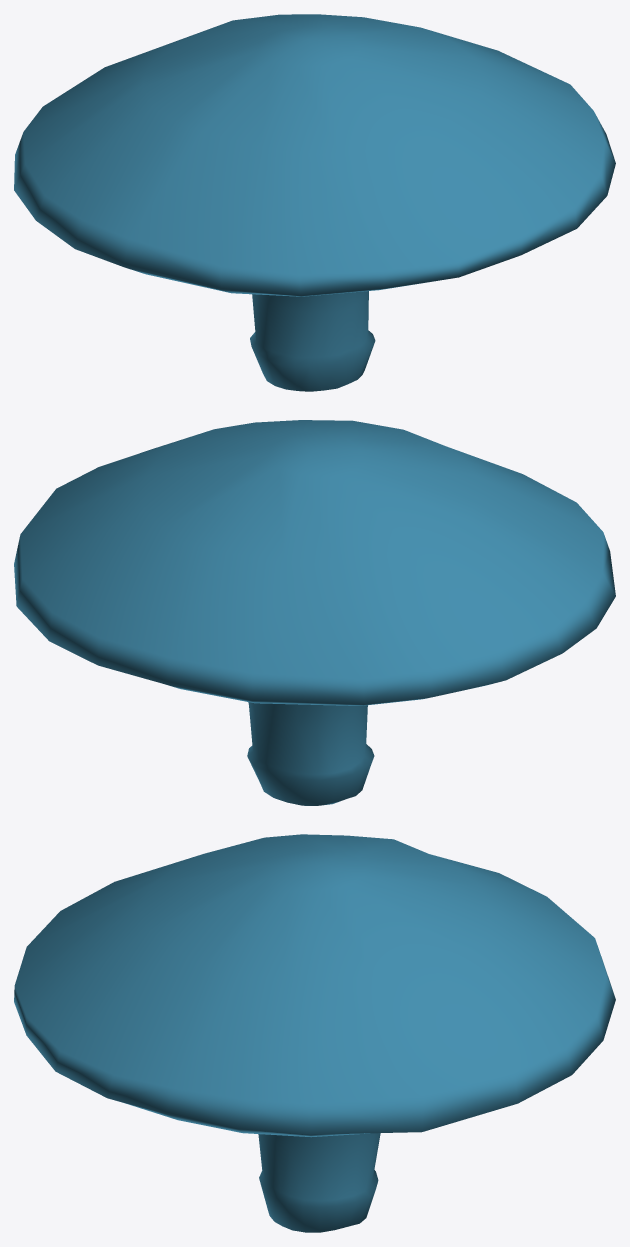
Rendered from geo_NPC02.fbx.
3 renders of one model, top to bottom at view 1: azimuth 30°, elevation 25°; view 2: azimuth 150°, elevation 25°; view 3: azimuth 270°, elevation 25°, orthographic. The views are drawn at different scales.
Parts seen in each view (by area): view 1: geo_NpcCap_02_L; view 2: geo_NpcCap_02_L; view 3: geo_NpcCap_02_L.
Boxes of the visible parts, bbox=[...] form: geo_NpcCap_02_L: bbox=[14, 14, 615, 391]; geo_NpcCap_02_L: bbox=[14, 420, 615, 805]; geo_NpcCap_02_L: bbox=[14, 834, 615, 1232].
Size of the model in its own units: 193 by 118 by 184.
